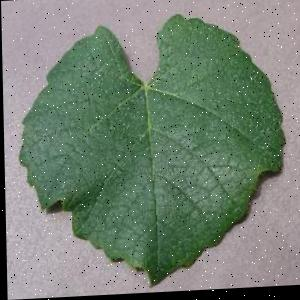Folha: (13, 11, 286, 295)
